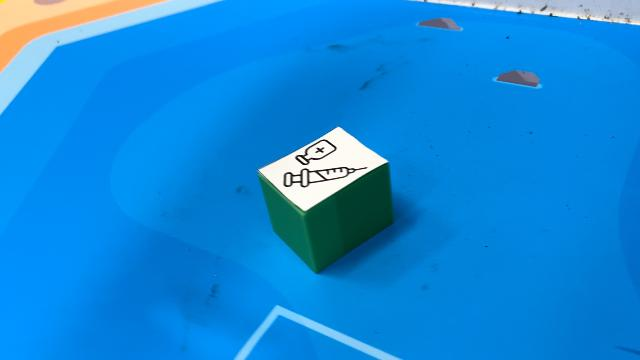syringe: (259, 127, 396, 275)
